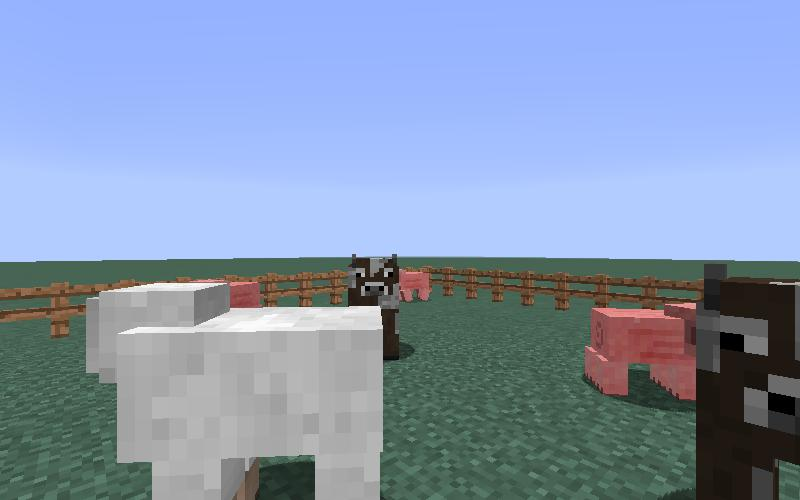cow: (697, 265, 800, 497), (345, 248, 403, 366)
pig: (581, 294, 697, 410), (399, 268, 429, 298)
sheep: (81, 283, 385, 500)
